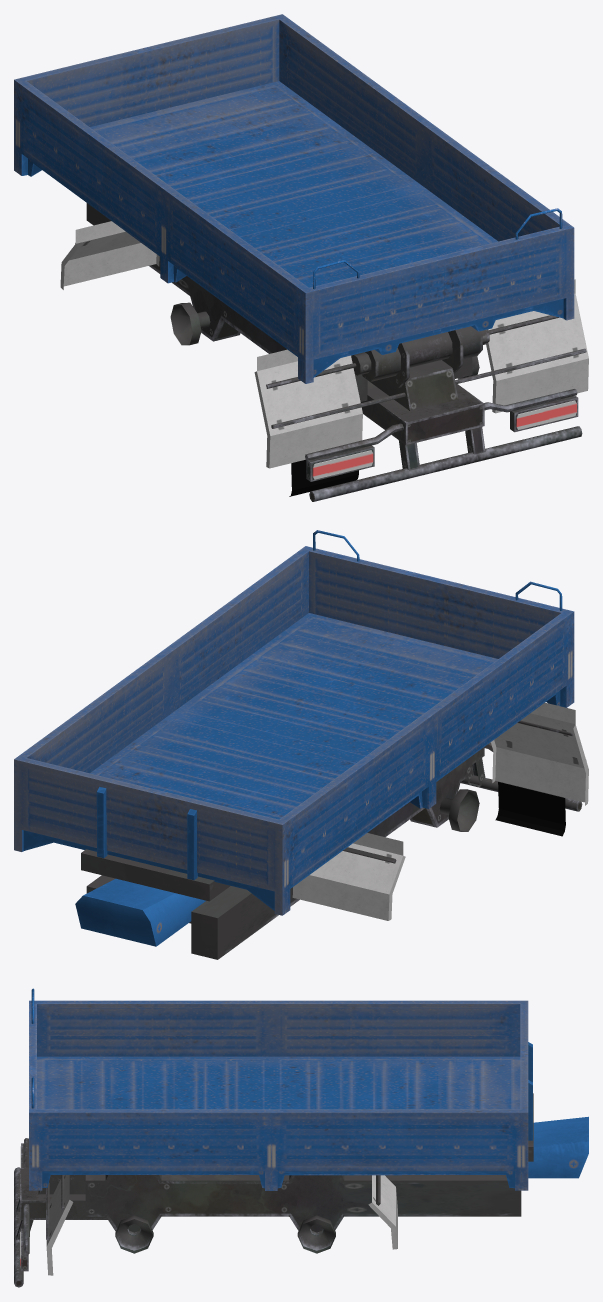
File: Rear KAMAZ Arctica.fbx
3 renders of one model, top to bottom at view 1: azimuth 30°, elevation 25°; view 2: azimuth 150°, elevation 25°; view 3: azimuth 270°, elevation 25°, orthographic. The views are drawn at different scales.
Parts seen in each view (by area): view 1: Cabin_low.001, Khung_low.001, DeCabin2_low.001; view 2: Cabin_low.001, DeCabin2_low.001, Khung_low.001; view 3: Cabin_low.001, Khung_low.001, DeCabin2_low.001.
Boxes of the visible parts, x1=… form: Cabin_low.001: x1=14, y1=14, x2=574, y2=383; Khung_low.001: x1=75, y1=203, x2=586, y2=501; DeCabin2_low.001: x1=60, y1=208, x2=588, y2=496; Cabin_low.001: x1=14, y1=546, x2=574, y2=946; DeCabin2_low.001: x1=81, y1=530, x2=588, y2=920; Khung_low.001: x1=86, y1=720, x2=582, y2=959; Cabin_low.001: x1=29, y1=1000, x2=588, y2=1190; Khung_low.001: x1=14, y1=1138, x2=521, y2=1287; DeCabin2_low.001: x1=31, y1=988, x2=533, y2=1275.
Size of the model in its own units: 4.69 by 3.21 by 8.31.
